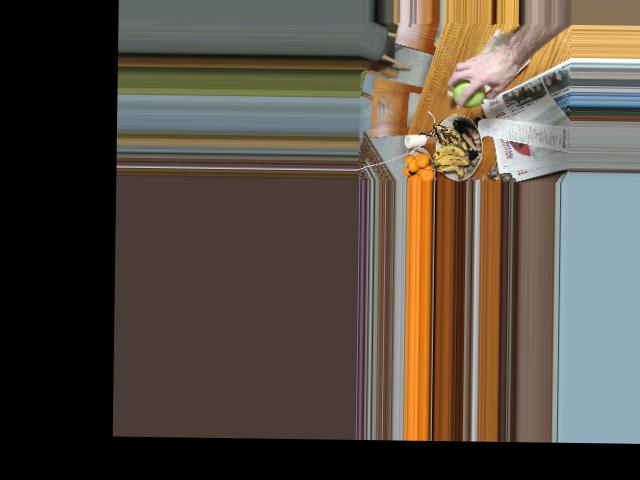apple: (453, 73, 489, 108)
